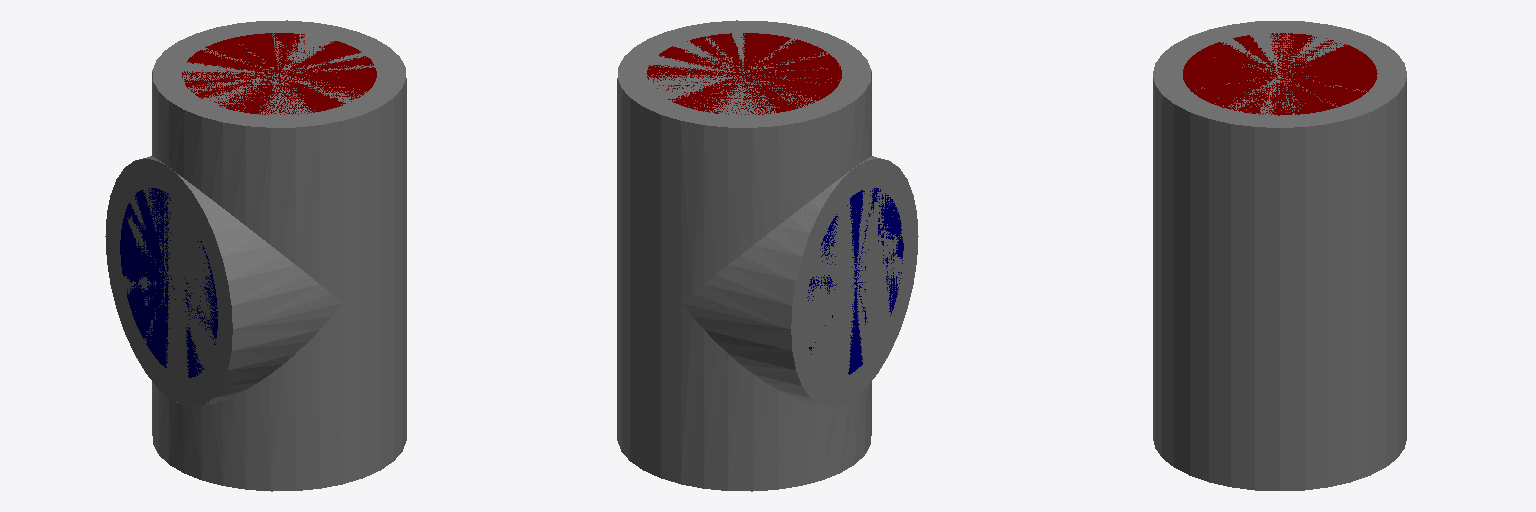
URDF robot description (jointT-s.SLDASM):
<?xml version="1.0" encoding="utf-8"?>
<!-- This URDF was automatically created by SolidWorks to URDF Exporter! Originally created by [author] ([email redacted]) 
     Commit Version: 1.6.0-4-g7f85cfe  Build Version: 1.6.7995.38578
     For more information, please see http://wiki.ros.org/sw_urdf_exporter -->
<robot
  name="jointT-s.SLDASM">
  <link
    name="tj_out">
    <inertial>
      <origin
        xyz="-0.0013817 6.5484E-09 -0.0575"
        rpy="0 0 0" />
      <mass
        value="0.50441" />
      <inertia
        ixx="0.00071191"
        ixy="2.7679E-10"
        ixz="4.7522E-20"
        iyy="0.00071638"
        iyz="-7.6335E-11"
        izz="0.00035776" />
    </inertial>
    <visual>
      <origin
        xyz="0 0 0"
        rpy="0 0 0" />
      <geometry>
        <mesh
          filename="package://jointT-s.SLDASM/meshes/tj_out.STL" />
      </geometry>
      <material
        name="red">
        <color
          rgba="0.5 0 0 1" />
      </material>
    </visual>
    <collision>
      <origin
        xyz="0 0 0"
        rpy="0 0 0" />
      <geometry>
        <mesh
          filename="package://jointT-s.SLDASM/meshes/tj_out.STL" />
      </geometry>
    </collision>
  </link>
  <link
    name="tj_body">
    <inertial>
      <origin
        xyz="-0.0013808 -7.3281E-08 -0.0575"
        rpy="0 0 0" />
      <mass
        value="0.50441" />
      <inertia
        ixx="0.00071191"
        ixy="2.7679E-10"
        ixz="4.9663E-20"
        iyy="0.00071638"
        iyz="-7.6335E-11"
        izz="0.00035776" />
    </inertial>
    <visual>
      <origin
        xyz="0 0 0"
        rpy="0 0 0" />
      <geometry>
        <mesh
          filename="package://jointT-s.SLDASM/meshes/tj_body.STL" />
      </geometry>
      <material
        name="body">
        <color
          rgba="0.5 0.5 0.5 1" />
      </material>
    </visual>
    <collision>
      <origin
        xyz="0 0 0"
        rpy="0 0 0" />
      <geometry>
        <mesh
          filename="package://jointT-s.SLDASM/meshes/tj_body.STL" />
      </geometry>
    </collision>
  </link>
  <joint
    name="tj_small_1"
    type="revolute">
    <origin
      xyz="0 0 0"
      rpy="0 0 0" />
    <parent
      link="tj_out" />
    <child
      link="tj_body" />
    <axis
      xyz="0 0 1" />
    <limit
      lower="-3.1416"
      upper="3.1416"
      effort="4.5"
      velocity="0.4" />
  </joint>
  <link
    name="tj_in">
    <inertial>
      <origin
        xyz="1.1276E-17 6.5484E-09 0.035118"
        rpy="0 0 0" />
      <mass
        value="0.50441" />
      <inertia
        ixx="0.00035776"
        ixy="7.6335E-11"
        ixz="1.7534E-20"
        iyy="0.00071638"
        iyz="2.7679E-10"
        izz="0.00071191" />
    </inertial>
    <visual>
      <origin
        xyz="0 0 0"
        rpy="0 0 0" />
      <geometry>
        <mesh
          filename="package://jointT-s.SLDASM/meshes/tj_in.STL" />
      </geometry>
      <material
        name="blue">
        <color
          rgba="0 0 0.5 1" />
      </material>
    </visual>
    <collision>
      <origin
        xyz="0 0 0"
        rpy="0 0 0" />
      <geometry>
        <mesh
          filename="package://jointT-s.SLDASM/meshes/tj_in.STL" />
      </geometry>
    </collision>
  </link>
  <joint
    name="tj_small_2"
    type="fixed">
    <origin
      xyz="-0.0365 0 -0.0575"
      rpy="0 1.5707963267949 0" />
    <parent
      link="tj_body" />
    <child
      link="tj_in" />
    <axis
      xyz="0 0 0" />
  </joint>
</robot>

--- What the picture shows (computed from the rendered views, not written in the file) ---
Views: 3 orthographic renders of the robot side by side, from view 1: azimuth 30°, elevation 25°; view 2: azimuth 150°, elevation 25°; view 3: azimuth 270°, elevation 25°.
Robot: jointT-s.SLDASM — 3 links, 2 joints (1 revolute, 1 fixed); root link tj_out; default pose: all joints at 0.
Links seen in each view (by area): view 1: tj_body, tj_out, tj_in; view 2: tj_body, tj_out, tj_in; view 3: tj_body, tj_out.
Boxes of the visible links, x1=… form: tj_body: x1=105, y1=20, x2=406, y2=491; tj_out: x1=182, y1=33, x2=376, y2=114; tj_in: x1=120, y1=188, x2=217, y2=377; tj_body: x1=617, y1=20, x2=918, y2=491; tj_out: x1=647, y1=33, x2=841, y2=114; tj_in: x1=807, y1=188, x2=903, y2=374; tj_body: x1=1153, y1=21, x2=1406, y2=490; tj_out: x1=1183, y1=33, x2=1377, y2=115.
Bounding box of the posed robot: 0.073 × 0.073 × 0.115 m (x, y, z).
3 mesh visuals loaded from 3 distinct referenced files (3 binary STL).